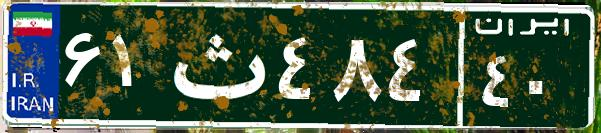0: (525, 38, 570, 115)
1: (110, 28, 158, 105)
4: (385, 28, 445, 110), (273, 28, 330, 110), (475, 38, 525, 113)
6: (57, 26, 110, 107)
8: (330, 28, 385, 110)
ث: (158, 15, 273, 115)
